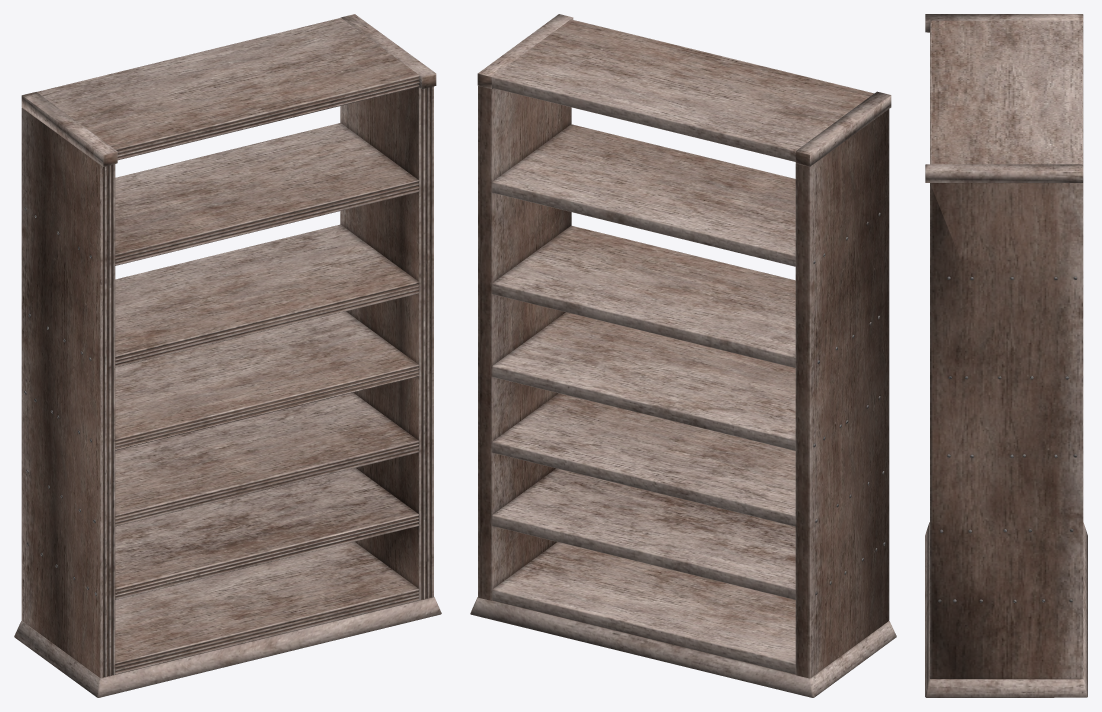
Rendered from wooden_bookshelf_worn.glb.
3 renders of one model, left to right at view 1: azimuth 30°, elevation 25°; view 2: azimuth 150°, elevation 25°; view 3: azimuth 270°, elevation 25°, orthographic. The views are drawn at different scales.
Visible parts, largest first — view 1: wooden_bookshelf_worn; view 2: wooden_bookshelf_worn; view 3: wooden_bookshelf_worn.
Boxes of the visible parts, left/top/right/bottom form: wooden_bookshelf_worn: left=14, top=14, right=441, bottom=697; wooden_bookshelf_worn: left=470, top=14, right=896, bottom=697; wooden_bookshelf_worn: left=925, top=14, right=1087, bottom=697.
Size of the model in its own units: 1.37 by 2.06 by 0.5813.
1 material, 1 textured.
